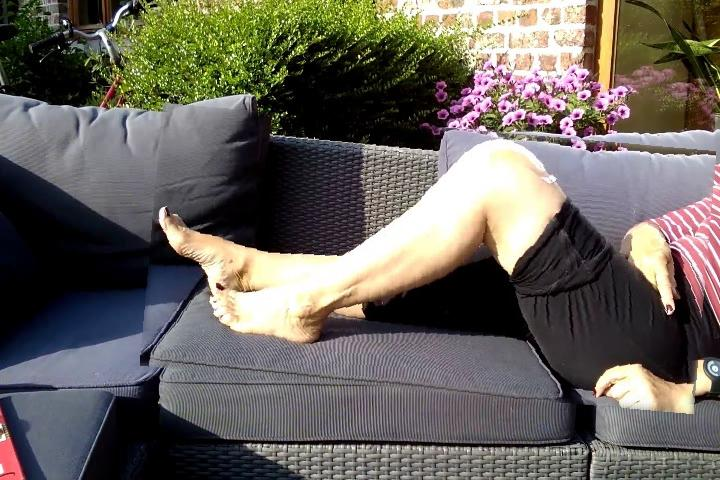lower_body: (146, 116, 712, 403)
